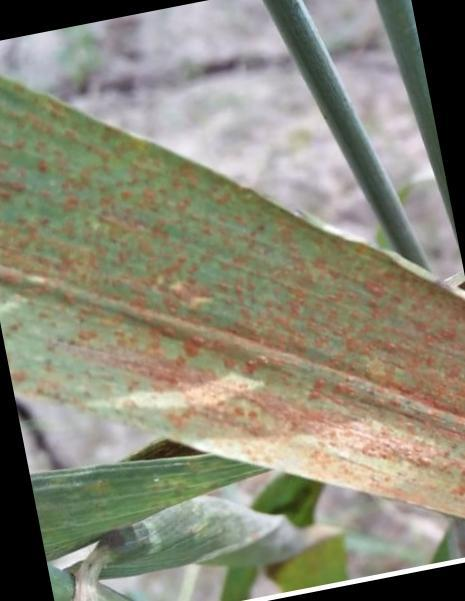Wheat: (101, 133, 345, 470), (346, 263, 462, 507), (5, 141, 90, 344)
